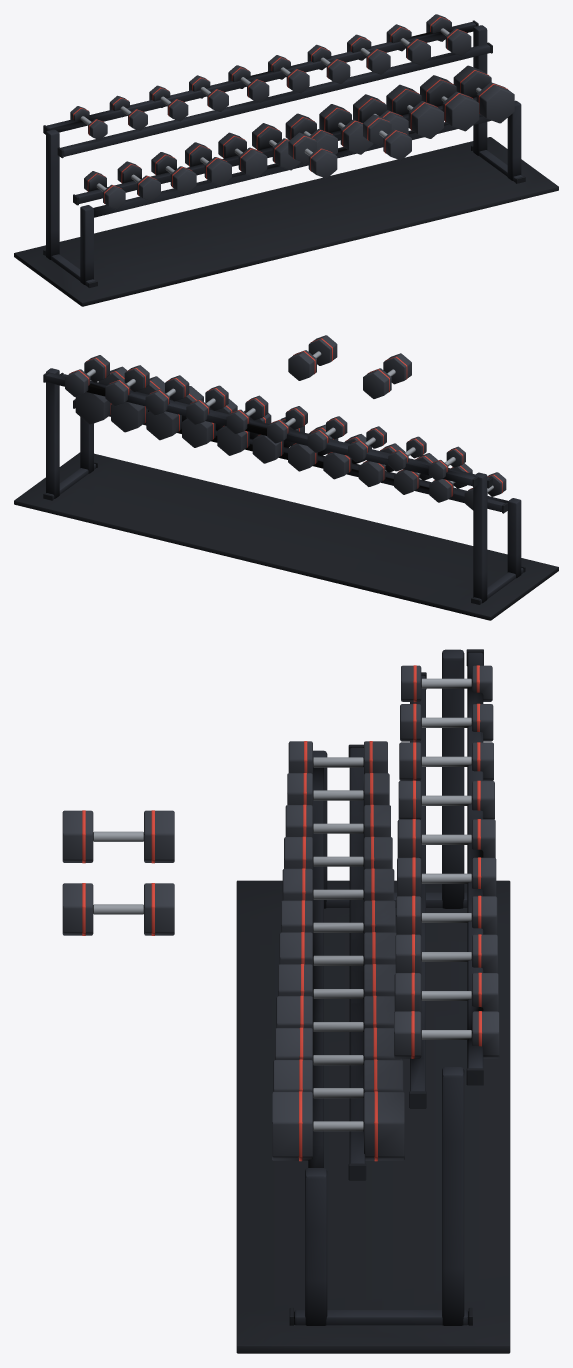
The model's file is m_dbrack.glb.
3 views of the same model, one above another, from view 1: azimuth 30°, elevation 25°; view 2: azimuth 150°, elevation 25°; view 3: azimuth 270°, elevation 25° (orthographic). The views are drawn at different scales.
Parts seen in each view (by area): view 1: static, o54, o145, o151, o48; view 2: static, o151, o145, o54, o48; view 3: static, o145, o151, o48, o54.
Part boxes in pixels (<box>): static: <box>14,14,558,306</box>; o54: <box>319,104,373,154</box>; o145: <box>288,132,337,178</box>; o151: <box>363,114,411,160</box>; o48: <box>285,113,337,154</box>; static: <box>14,355,558,620</box>; o151: <box>288,335,337,380</box>; o145: <box>363,353,411,398</box>; o54: <box>217,411,271,455</box>; o48: <box>252,417,304,463</box>; static: <box>236,649,510,1353</box>; o145: <box>62,810,174,863</box>; o151: <box>62,883,174,935</box>; o48: <box>279,932,396,965</box>; o54: <box>278,964,395,998</box>.
Size of the model in its own units: 3.46 by 0.9948 by 1.41.
